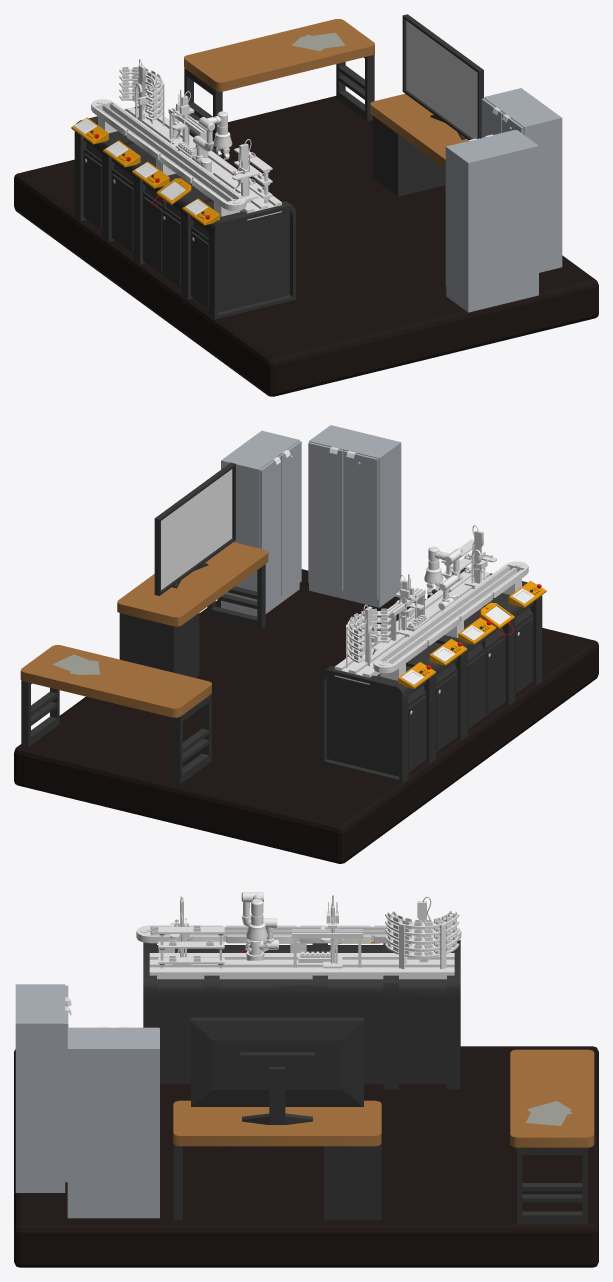
The model's file is SMART.fbx.
3 renders of one model, top to bottom at view 1: azimuth 30°, elevation 25°; view 2: azimuth 150°, elevation 25°; view 3: azimuth 270°, elevation 25°, orthographic. The views are drawn at different scales.
Visible parts, largest first — view 1: Chao SMART, Cubo.032, Cubo.011, Cubo.007, Cubo.008, Cubo.088, Cubo.013, Cubo.014, Cubo.077, Cilindro.008, Cubo.043, Cilindro.004 (+8 smaller); view 2: Chao SMART, Cubo.032, Cubo.011, Cubo.008, Cubo.007, Cubo.013, Cubo.088, Cubo.014, Cubo.077, Cilindro.008, Cilindro.006, Cilindro.004 (+7 smaller); view 3: Chao SMART, Cubo.032, Cubo.013, Cubo.088, Cubo.008, Cubo.011, Cubo.007, Cubo.014, Cubo.077, Cilindro.008, Cubo.043, Cubo.042 (+3 smaller).
Boxes of the visible parts, x1,y1,x2,y2 form: Chao SMART: (14, 96, 598, 396); Cubo.032: (74, 106, 295, 319); Cubo.011: (445, 130, 538, 312); Cubo.007: (184, 19, 374, 156); Cubo.008: (370, 94, 468, 196); Cubo.088: (402, 14, 483, 139); Cubo.013: (481, 88, 562, 272); Cubo.014: (91, 99, 281, 220); Cubo.077: (119, 59, 164, 125); Cilindro.008: (192, 111, 232, 174); Cubo.043: (234, 148, 272, 203); Cilindro.004: (232, 139, 259, 203); Chao SMART: (14, 569, 598, 863); Cubo.032: (321, 567, 542, 783); Cubo.011: (308, 425, 401, 607); Cubo.008: (117, 542, 268, 677); Cubo.007: (20, 645, 211, 784); Cubo.013: (221, 430, 301, 616); Cubo.088: (154, 462, 235, 595); Cubo.014: (334, 561, 528, 684); Cubo.077: (346, 604, 391, 667); Cilindro.008: (424, 546, 461, 610); Cilindro.006: (395, 574, 424, 637); Cilindro.004: (464, 525, 496, 588); Chao SMART: (14, 1046, 598, 1267); Cubo.032: (143, 940, 460, 1089); Cubo.013: (67, 1026, 159, 1218); Cubo.088: (191, 1017, 363, 1124); Cubo.008: (173, 1100, 381, 1220); Cubo.011: (15, 984, 71, 1192); Cubo.007: (510, 1049, 594, 1224); Cubo.014: (136, 925, 461, 979); Cubo.077: (385, 896, 459, 969); Cilindro.008: (241, 892, 278, 960); Cubo.043: (158, 925, 224, 968); Cubo.042: (291, 929, 363, 967).
Size of the model in its own units: 377 by 210 by 488.
